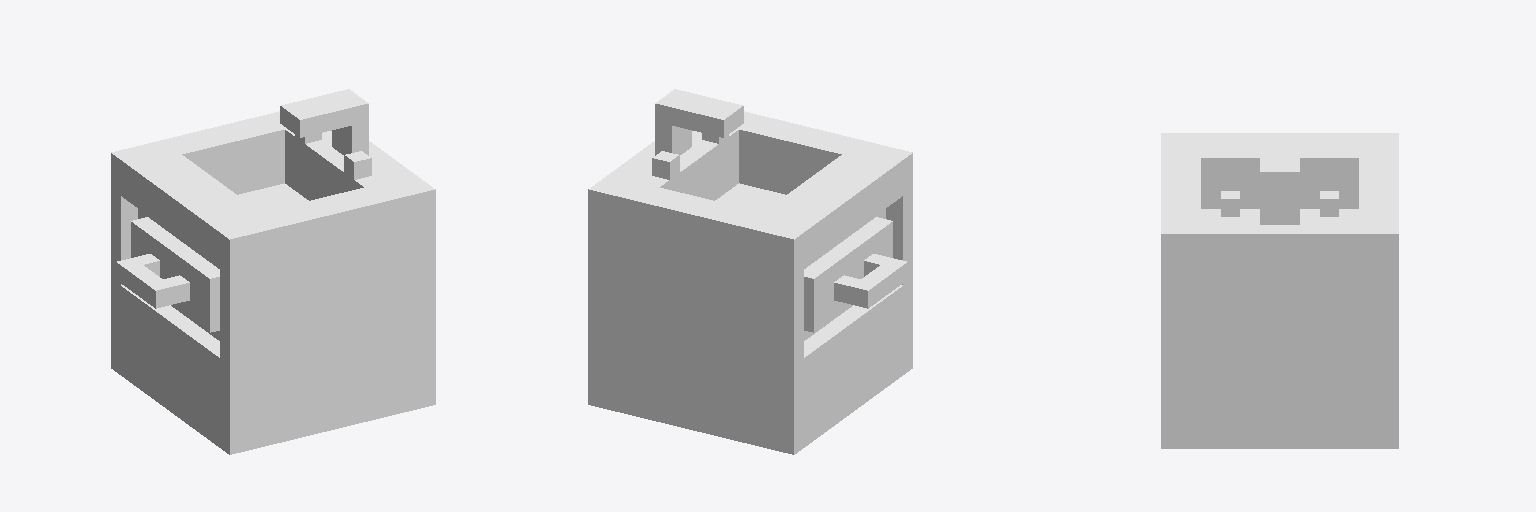
File: modern:drawer-sink.obj
3 renders of one model, left to right at view 1: azimuth 30°, elevation 25°; view 2: azimuth 150°, elevation 25°; view 3: azimuth 270°, elevation 25°, orthographic.
Visible parts, largest first — view 1: modern:drawer-sink; view 2: modern:drawer-sink; view 3: modern:drawer-sink.
Part boxes in pixels (left/top/right/bottom): modern:drawer-sink: left=111, top=89, right=435, bottom=454; modern:drawer-sink: left=588, top=89, right=912, bottom=454; modern:drawer-sink: left=1161, top=133, right=1398, bottom=448.
Bounding box in the file's own units: 14 × 15 × 12.